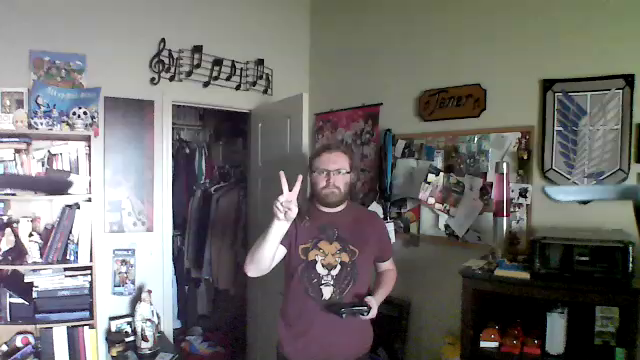peace: (265, 162, 309, 224)
